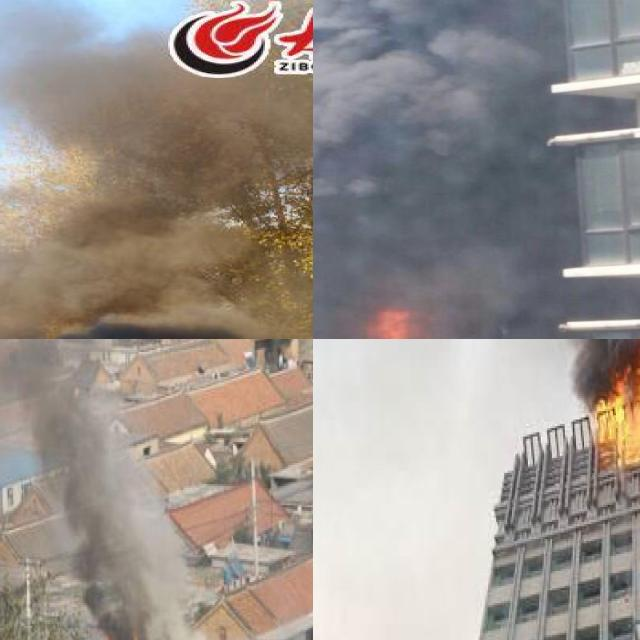fire: (589, 339, 640, 460), (368, 313, 430, 339), (126, 633, 148, 640)
smoke: (0, 0, 313, 339), (313, 0, 587, 339), (0, 339, 185, 640)
